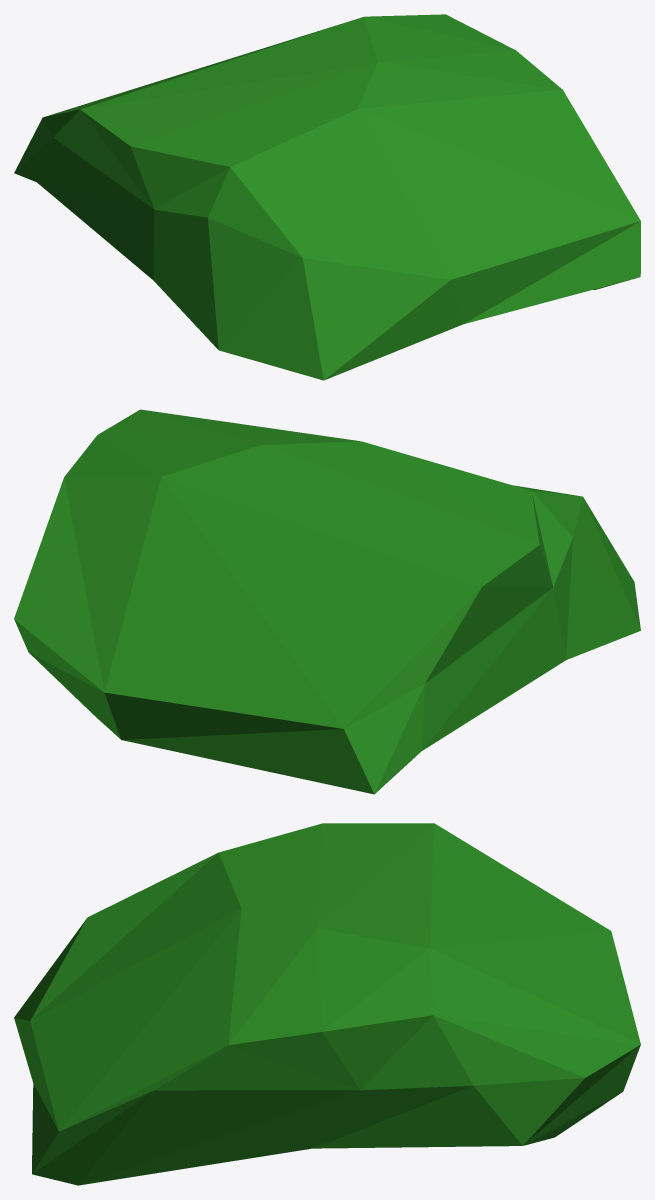
Rendered from o_grass_small.FBX.
The picture shows the model from 3 angles, top to bottom: view 1: azimuth 30°, elevation 25°; view 2: azimuth 150°, elevation 25°; view 3: azimuth 270°, elevation 25°; orthographic projection. The views are drawn at different scales.
Visible parts, largest first — view 1: O_Grass_Small; view 2: O_Grass_Small; view 3: O_Grass_Small.
Part boxes in pixels (bbox=[...]): O_Grass_Small: bbox=[14, 14, 640, 380]; O_Grass_Small: bbox=[14, 409, 640, 794]; O_Grass_Small: bbox=[14, 823, 640, 1185].
Size of the model in its own units: 112 by 48.01 by 139.
